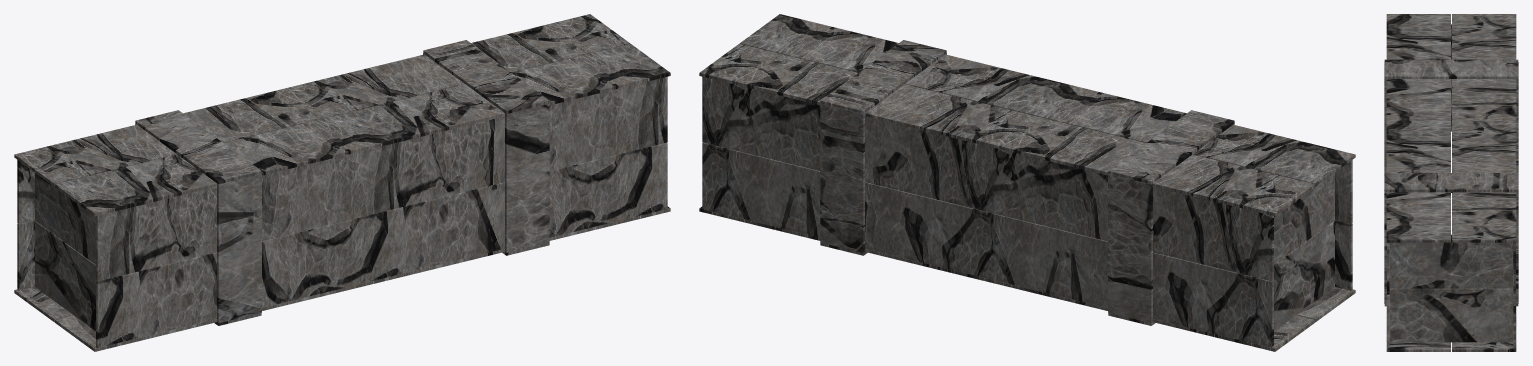
The model's file is Crate-03.FBX.
3 renders of one model, left to right at view 1: azimuth 30°, elevation 25°; view 2: azimuth 150°, elevation 25°; view 3: azimuth 270°, elevation 25°, orthographic. The views are drawn at different scales.
Visible parts, largest first — view 1: Crate-03_case, Crate-03_cover; view 2: Crate-03_case, Crate-03_cover; view 3: Crate-03_cover, Crate-03_case.
Part boxes in pixels (box(x1,y1,x2,y2)): Crate-03_case: box(14, 53, 670, 351); Crate-03_cover: box(14, 14, 670, 216); Crate-03_case: box(699, 53, 1355, 351); Crate-03_cover: box(699, 14, 1355, 216); Crate-03_cover: box(1384, 14, 1518, 242); Crate-03_case: box(1384, 24, 1518, 351).
Bounding box in the file's own units: 1 × 0.24 × 0.251.
